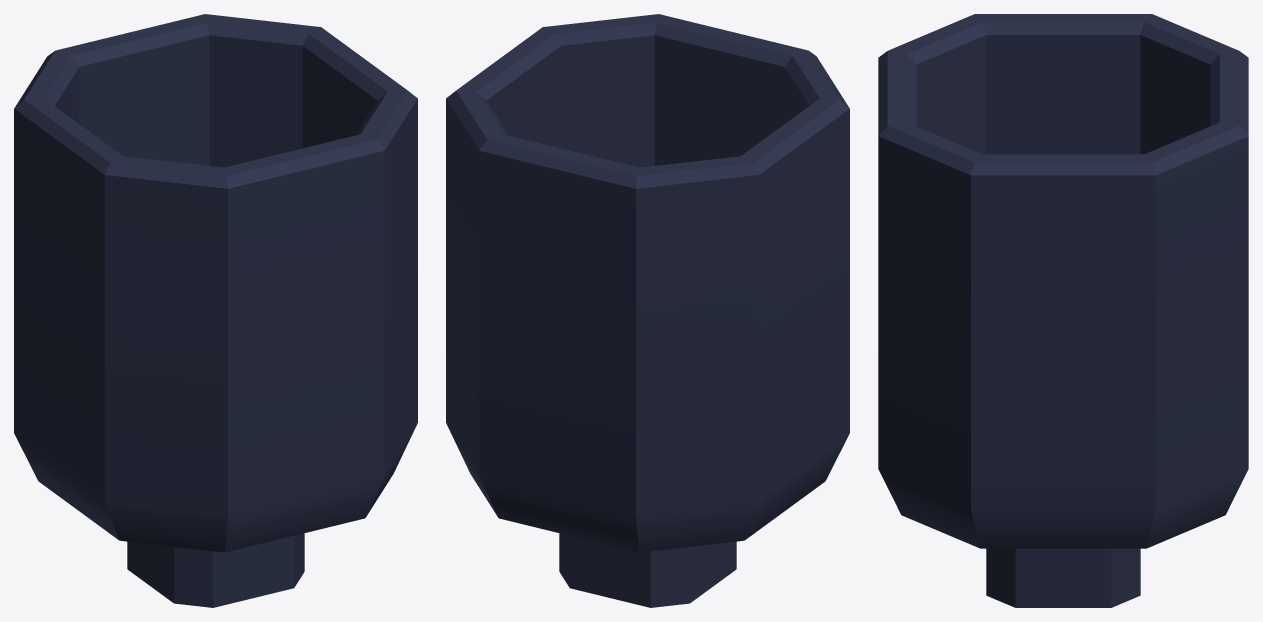
Rendered from BackTrash.fbx.
The picture shows the model from 3 angles, left to right: view 1: azimuth 30°, elevation 25°; view 2: azimuth 150°, elevation 25°; view 3: azimuth 270°, elevation 25°; orthographic projection. The views are drawn at different scales.
Parts seen in each view (by area): view 1: BackTrash; view 2: BackTrash; view 3: BackTrash.
Boxes of the visible parts, x1,y1,x2,y2 form: BackTrash: [14, 14, 417, 607]; BackTrash: [446, 14, 849, 607]; BackTrash: [878, 14, 1248, 607].
Bounding box in the file's own units: 43.44 × 63 × 43.44.
